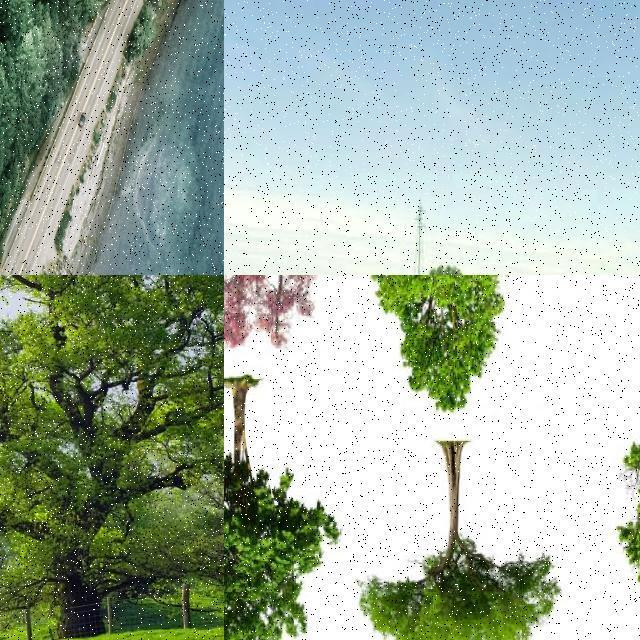tree: (0, 275, 224, 640), (357, 435, 562, 640), (224, 384, 338, 640), (360, 275, 516, 457), (0, 352, 92, 640), (224, 275, 324, 425), (520, 276, 640, 372), (0, 563, 28, 640), (0, 0, 16, 58), (0, 212, 16, 270), (0, 0, 14, 66), (86, 0, 110, 38), (0, 0, 12, 76), (0, 0, 14, 64), (420, 256, 464, 276), (7, 1, 35, 32), (0, 0, 16, 46), (8, 0, 32, 30), (0, 208, 12, 260), (0, 0, 16, 36), (0, 202, 10, 258), (68, 0, 88, 28), (0, 0, 14, 40), (0, 0, 14, 40), (0, 142, 12, 188), (4, 0, 23, 28), (0, 0, 12, 40), (24, 0, 40, 30), (0, 1, 12, 40), (0, 0, 12, 36), (0, 1, 12, 36), (0, 0, 12, 34), (0, 0, 12, 34), (0, 0, 12, 34), (0, 0, 12, 34), (0, 102, 10, 142), (0, 0, 12, 32), (0, 0, 12, 32), (0, 1, 12, 32), (0, 0, 12, 30), (40, 0, 56, 22), (0, 83, 10, 117), (0, 0, 12, 28), (0, 0, 12, 28), (134, 0, 150, 20), (45, 0, 61, 20), (0, 197, 8, 236), (0, 0, 12, 26), (0, 173, 8, 210), (0, 0, 12, 24), (0, 0, 12, 24), (0, 0, 12, 24), (4, 0, 20, 18), (0, 0, 10, 28), (0, 0, 10, 28), (1, 67, 8, 105), (0, 0, 8, 32), (0, 0, 8, 32), (0, 0, 16, 16), (0, 1, 8, 32), (0, 0, 12, 20), (0, 0, 10, 24), (0, 0, 8, 28), (0, 1, 10, 23), (1, 0, 8, 28), (0, 0, 8, 24), (0, 0, 8, 24), (0, 0, 8, 24), (0, 0, 8, 24), (0, 0, 8, 24), (0, 0, 12, 16), (162, 0, 174, 16), (62, 0, 78, 12), (174, 1, 186, 16), (0, 1, 8, 23), (0, 1, 8, 23), (0, 0, 8, 20), (0, 0, 8, 20), (0, 1, 8, 20), (0, 1, 8, 20), (0, 0, 8, 18), (0, 0, 8, 18), (0, 0, 8, 16), (0, 0, 8, 16), (1, 0, 8, 18), (150, 0, 160, 12), (1, 0, 8, 16), (1, 0, 8, 16), (1, 0, 8, 16), (0, 0, 6, 18), (0, 0, 6, 18), (0, 0, 6, 16), (0, 0, 6, 10)
